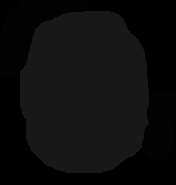fp: (15, 6, 153, 164)
